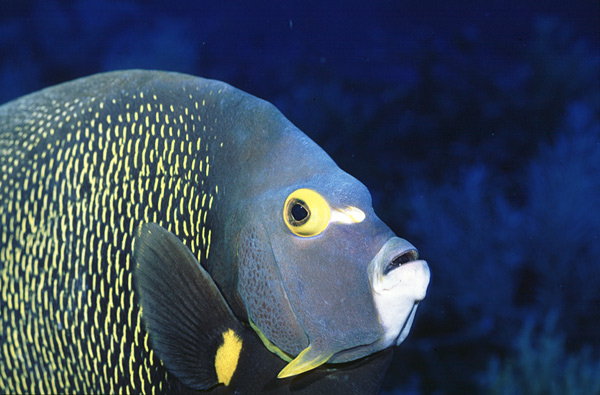Pomacanthus_paru: (6, 49, 440, 395)
